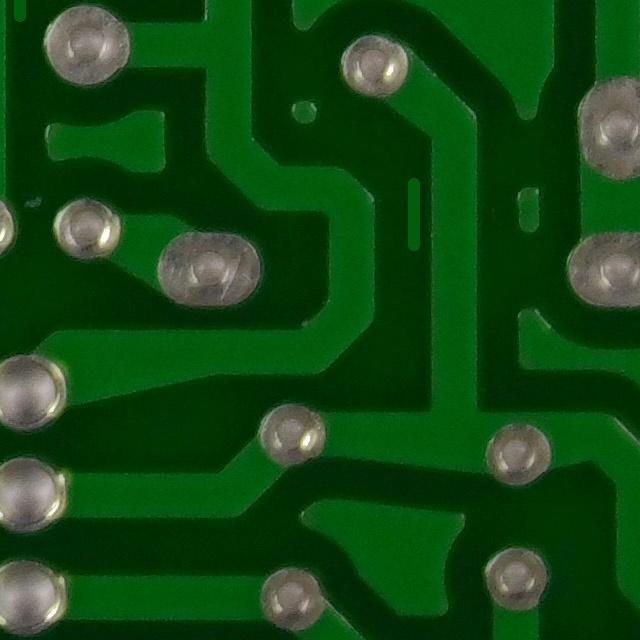spurious_copper: (391, 164, 434, 273)
